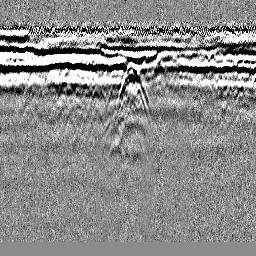cavity: (114, 60, 152, 116)
